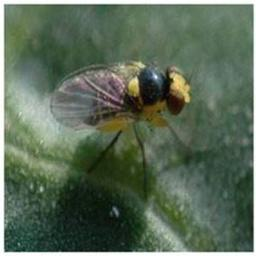liriomyza: (51, 58, 194, 201)
